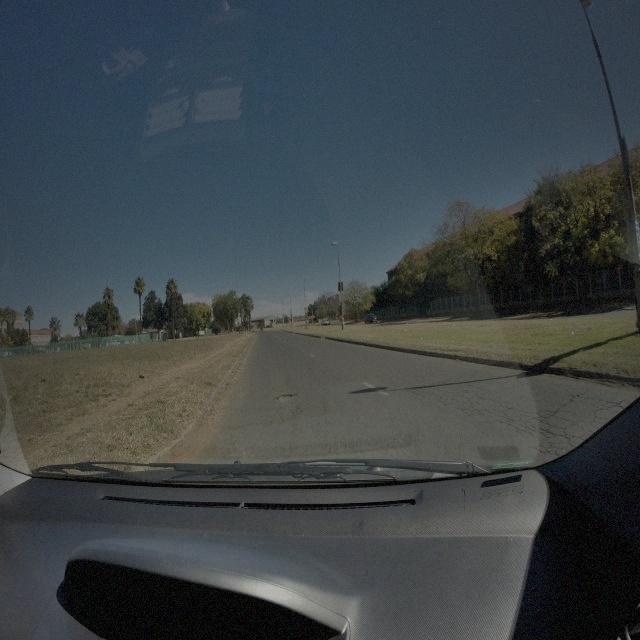pothole: (274, 393, 297, 404)
